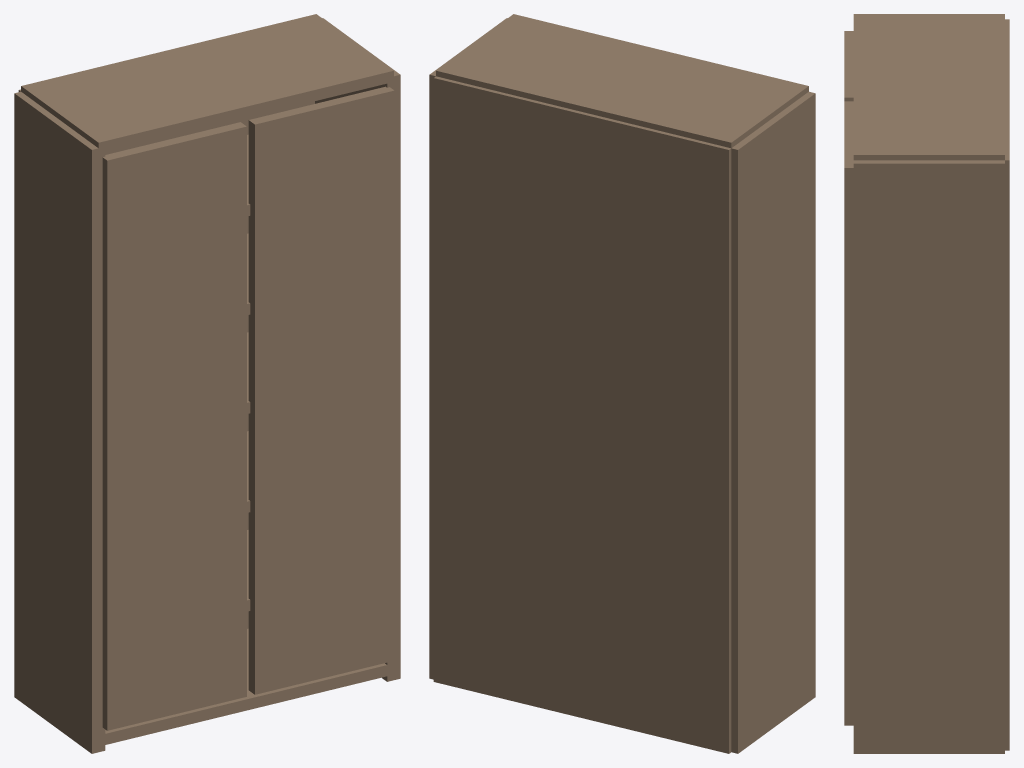
The model's file is AR-CABINET.glb.
3 views of the same model, side by side, from view 1: azimuth 30°, elevation 25°; view 2: azimuth 150°, elevation 25°; view 3: azimuth 270°, elevation 25° (orthographic). The views are drawn at different scales.
Parts seen in each view (by area): view 1: door (×2), side (×2), shelf (×2), back; view 2: back, side (×2), shelf; view 3: side, shelf, door (×2), back.
Part boxes in pixels (x1,y1,x2,y2): door (×2): (102,86,394,730); side (×2): (14,18,400,753); shelf (×2): (21,14,393,744); back: (18,89,314,628); back: (433,76,731,753); side (×2): (429,18,815,753); shelf: (436,14,808,148); side: (853,160,1004,753); shelf: (853,14,1004,160); door (×2): (844,31,853,725); back: (1005,19,1009,750).
Size of the model in its own units: 1.15 by 2.17 by 0.545.
